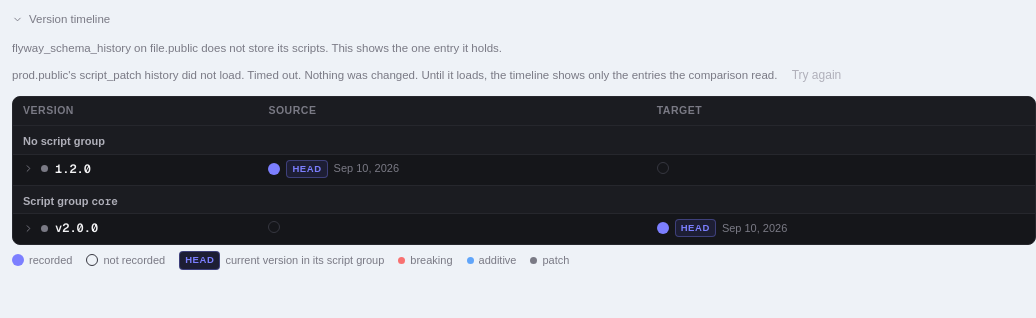
Scenario: a read that did not come back › tells the ledger side that no script is shown, rather than that none exists
The width and height of the screenshot is (1036, 318).
Expected: the text "prod.public's script_patch history did not load. Timed out." is shown, [12, 69, 778, 81]
Click the button "v2.0.0" at (61, 228), box [23, 219, 98, 237]
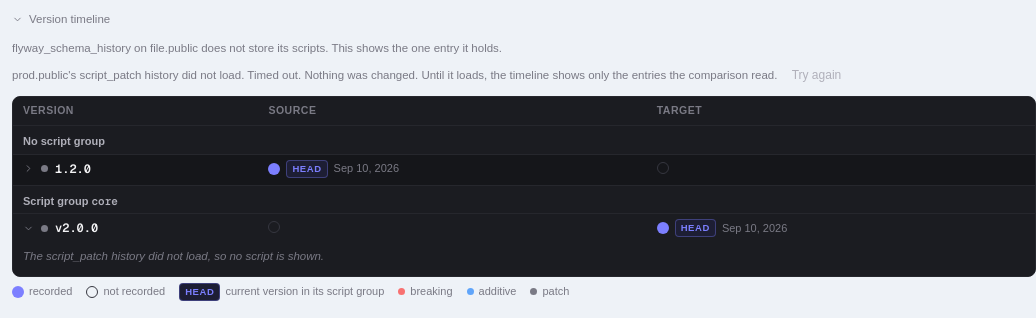
Result: the text "The script_patch history did not load, so no script is shown." is shown at [23, 250, 324, 262]
